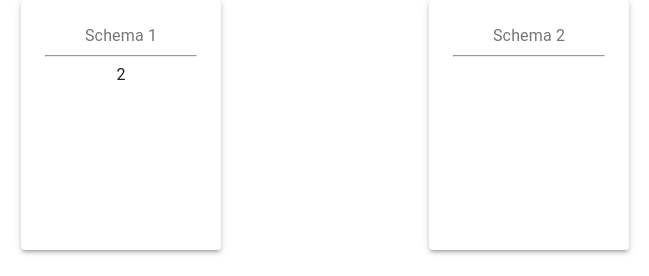
Test case: SchemasBoard without "activeSchemaId" › CustomCardButtons is displayed when Card is clicked ("mode" = "DELETE")
Click the button "Schema 1 2" at (121, 125), box [45,24,197,226]
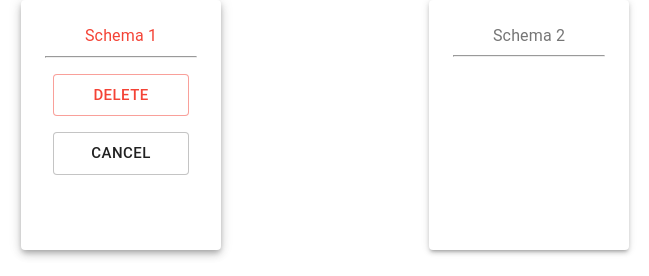
Now the button "Schema 1 Delete Cancel" is shown, box [21,0,221,250]
Now the button "Delete" is shown, box [53,74,189,116]
Now the button "Cancel" is shown, box [53,132,189,175]
